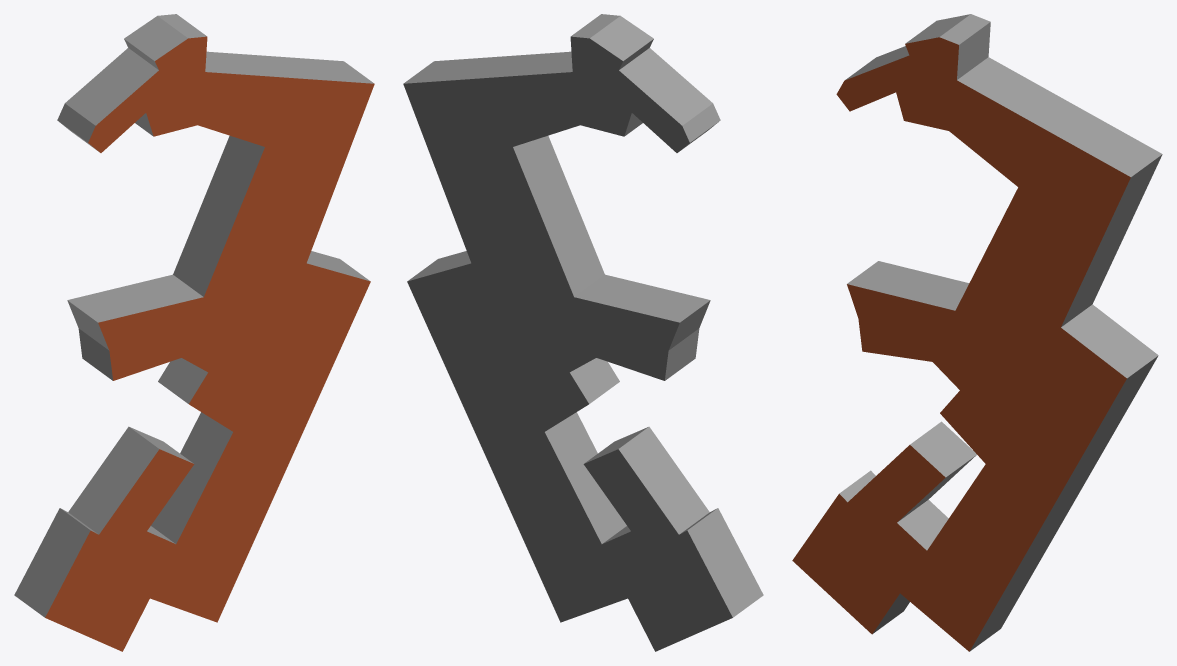
File: construction_2140_assumed_A_Casa_h6m.obj
3 views of the same model, side by side, from view 1: azimuth 30°, elevation 25°; view 2: azimuth 150°, elevation 25°; view 3: azimuth 330°, elevation 25° (orthographic). The views are drawn at different scales.
Visible parts, largest first — view 1: construction_2140_assumed_A_Casa; view 2: construction_2140_assumed_A_Casa; view 3: construction_2140_assumed_A_Casa.
Part boxes in pixels (x1,y1,x2,y2): construction_2140_assumed_A_Casa: (14,14,374,651); construction_2140_assumed_A_Casa: (403,14,763,651); construction_2140_assumed_A_Casa: (792,14,1162,651).
Bounding box in the file's own units: 37.02 × 64.11 × 6.
